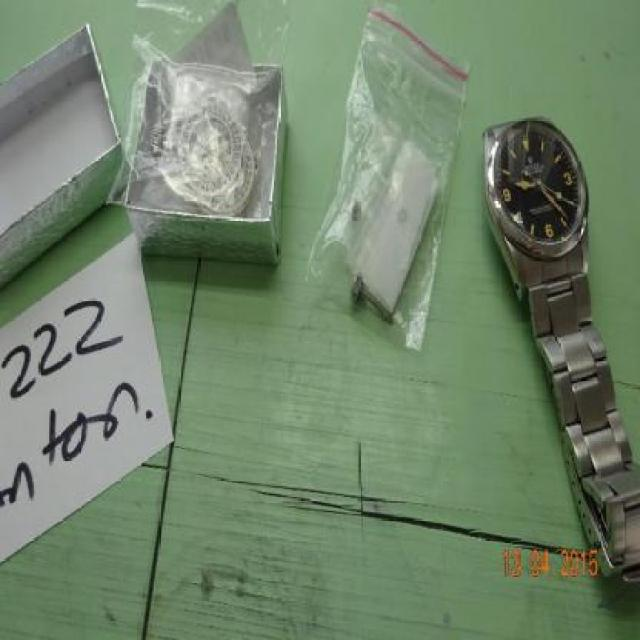plastic bag: (305, 0, 472, 351), (104, 0, 292, 218)
